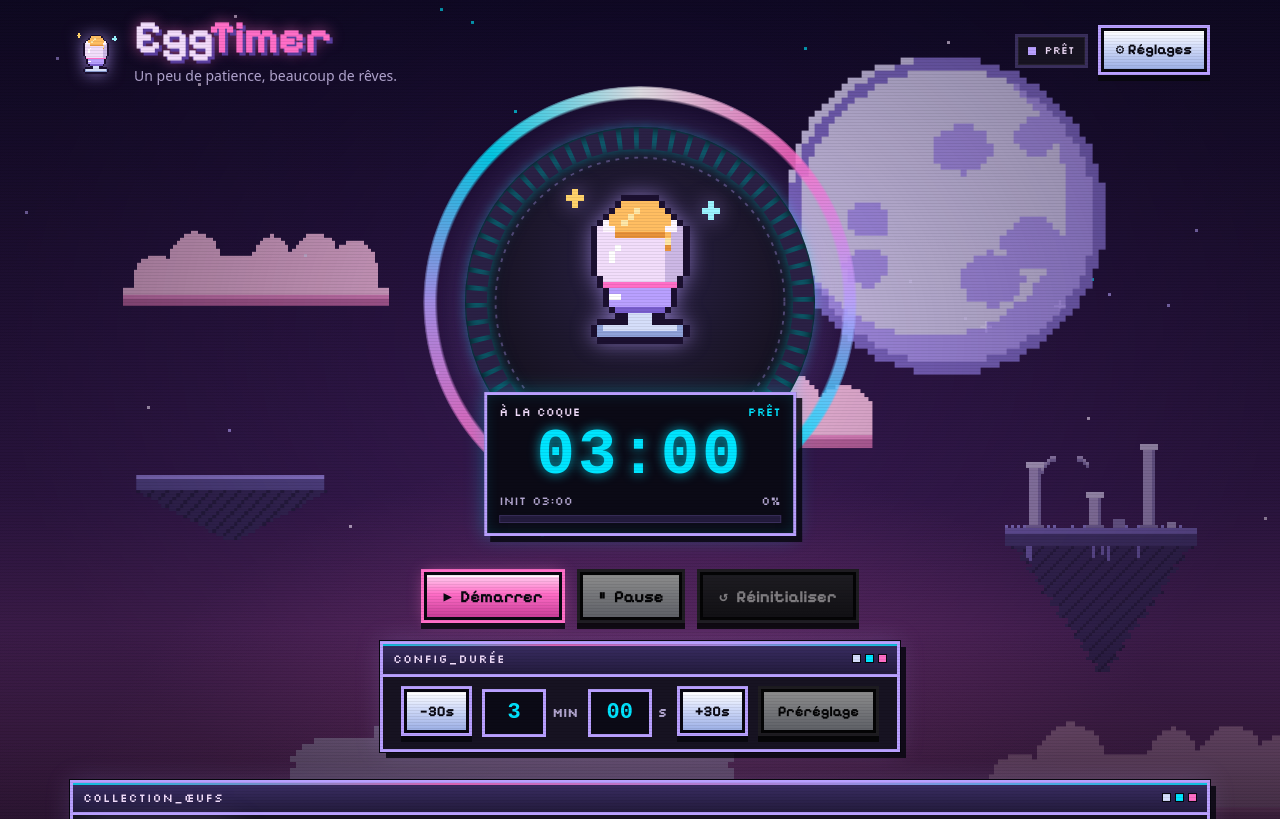
Test: fin de cuisson › « Recommencer » relance une cuisson complète
This screenshot has width=1280, height=819.
Click the button "▶ Démarrer". click: (493, 596)
box: [424,572,562,620]
Wait 180500 ms
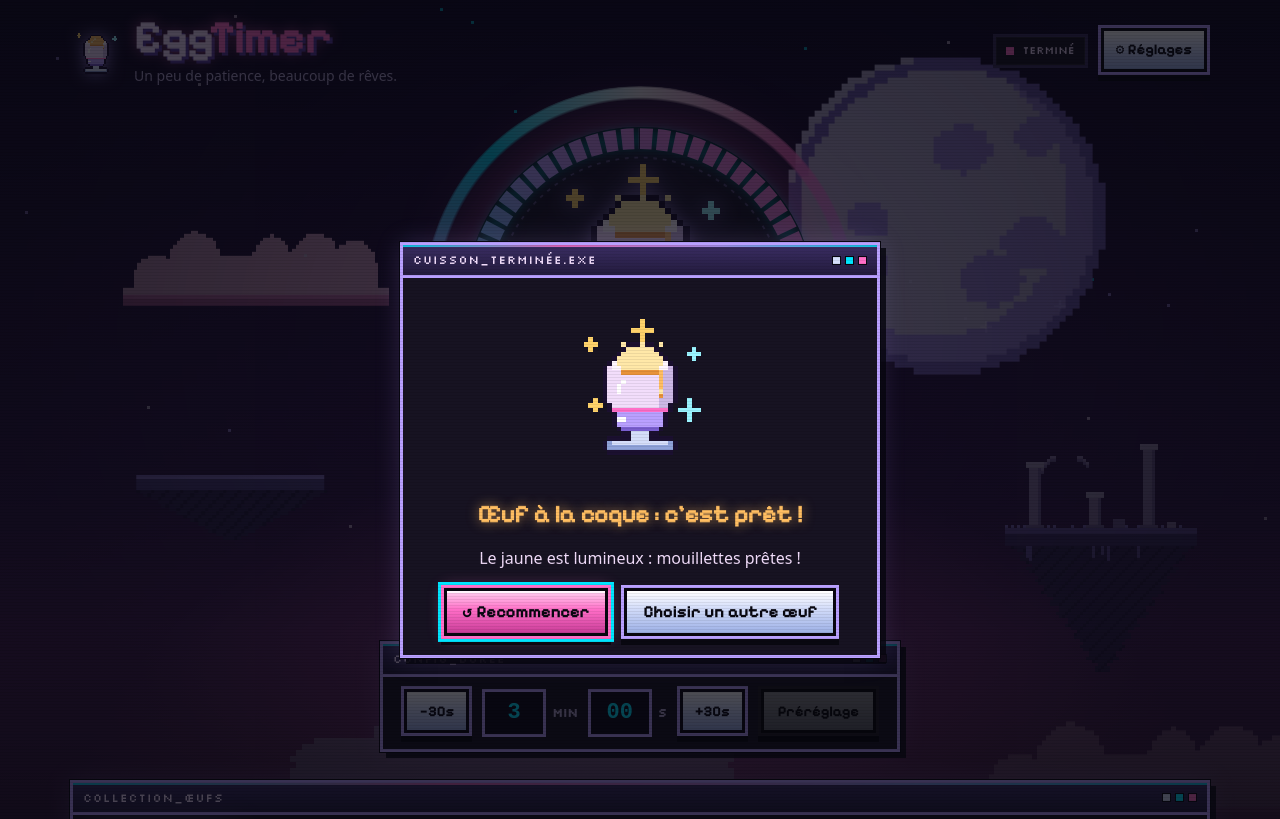
Click the button "↺ Recommencer". click: (526, 612)
box: [444,588,608,636]
Wait 2000 ms
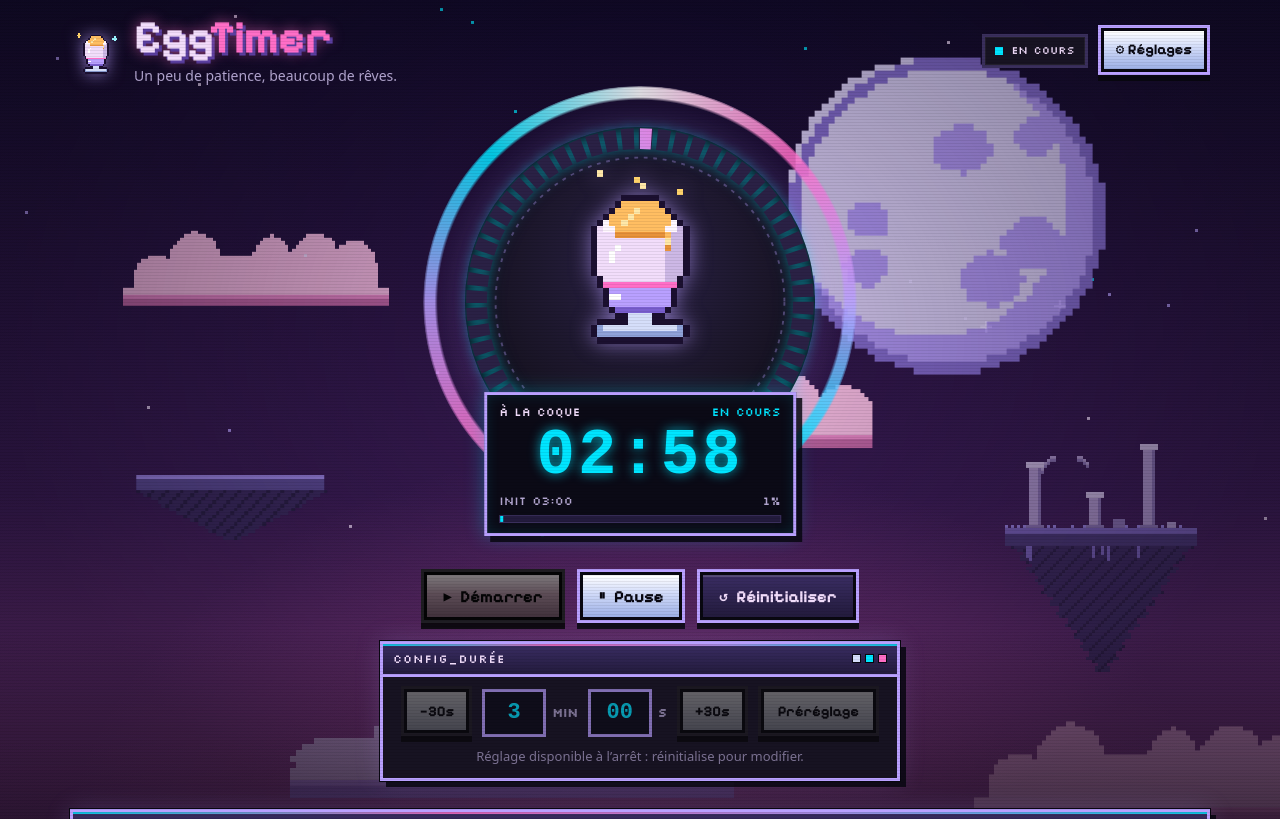
Now the element showing "EN COURS" is shown, box [982,34,1088,68]
